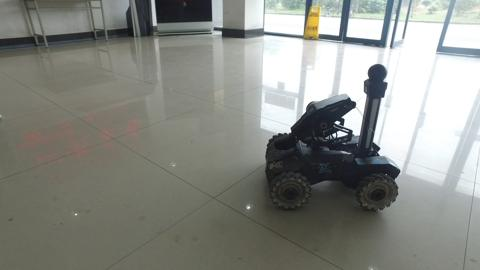chariot: (263, 61, 400, 212)
